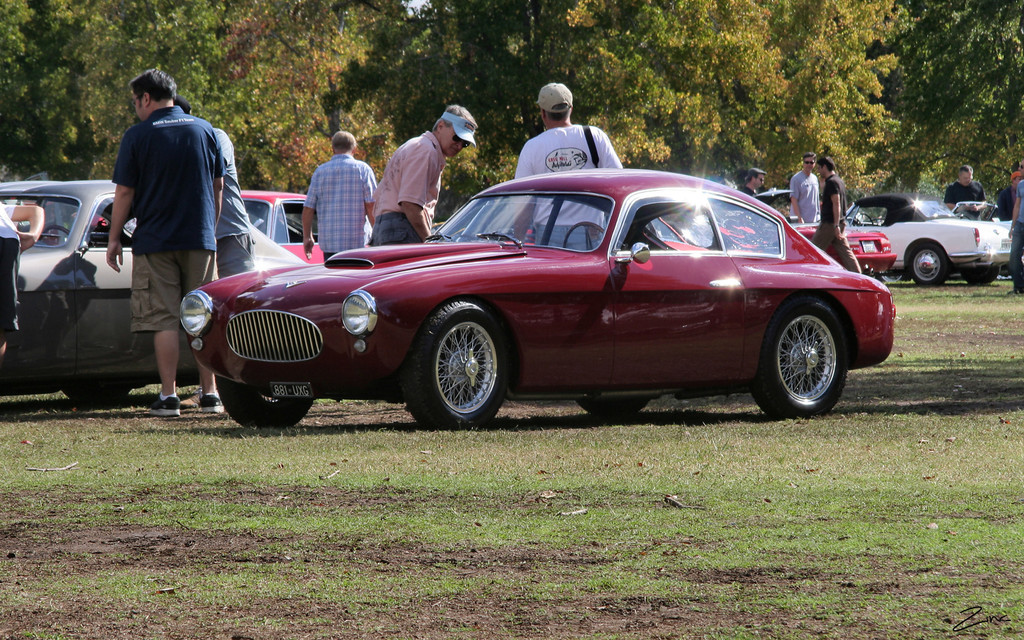Car: (172, 171, 896, 440), (0, 183, 314, 389)
